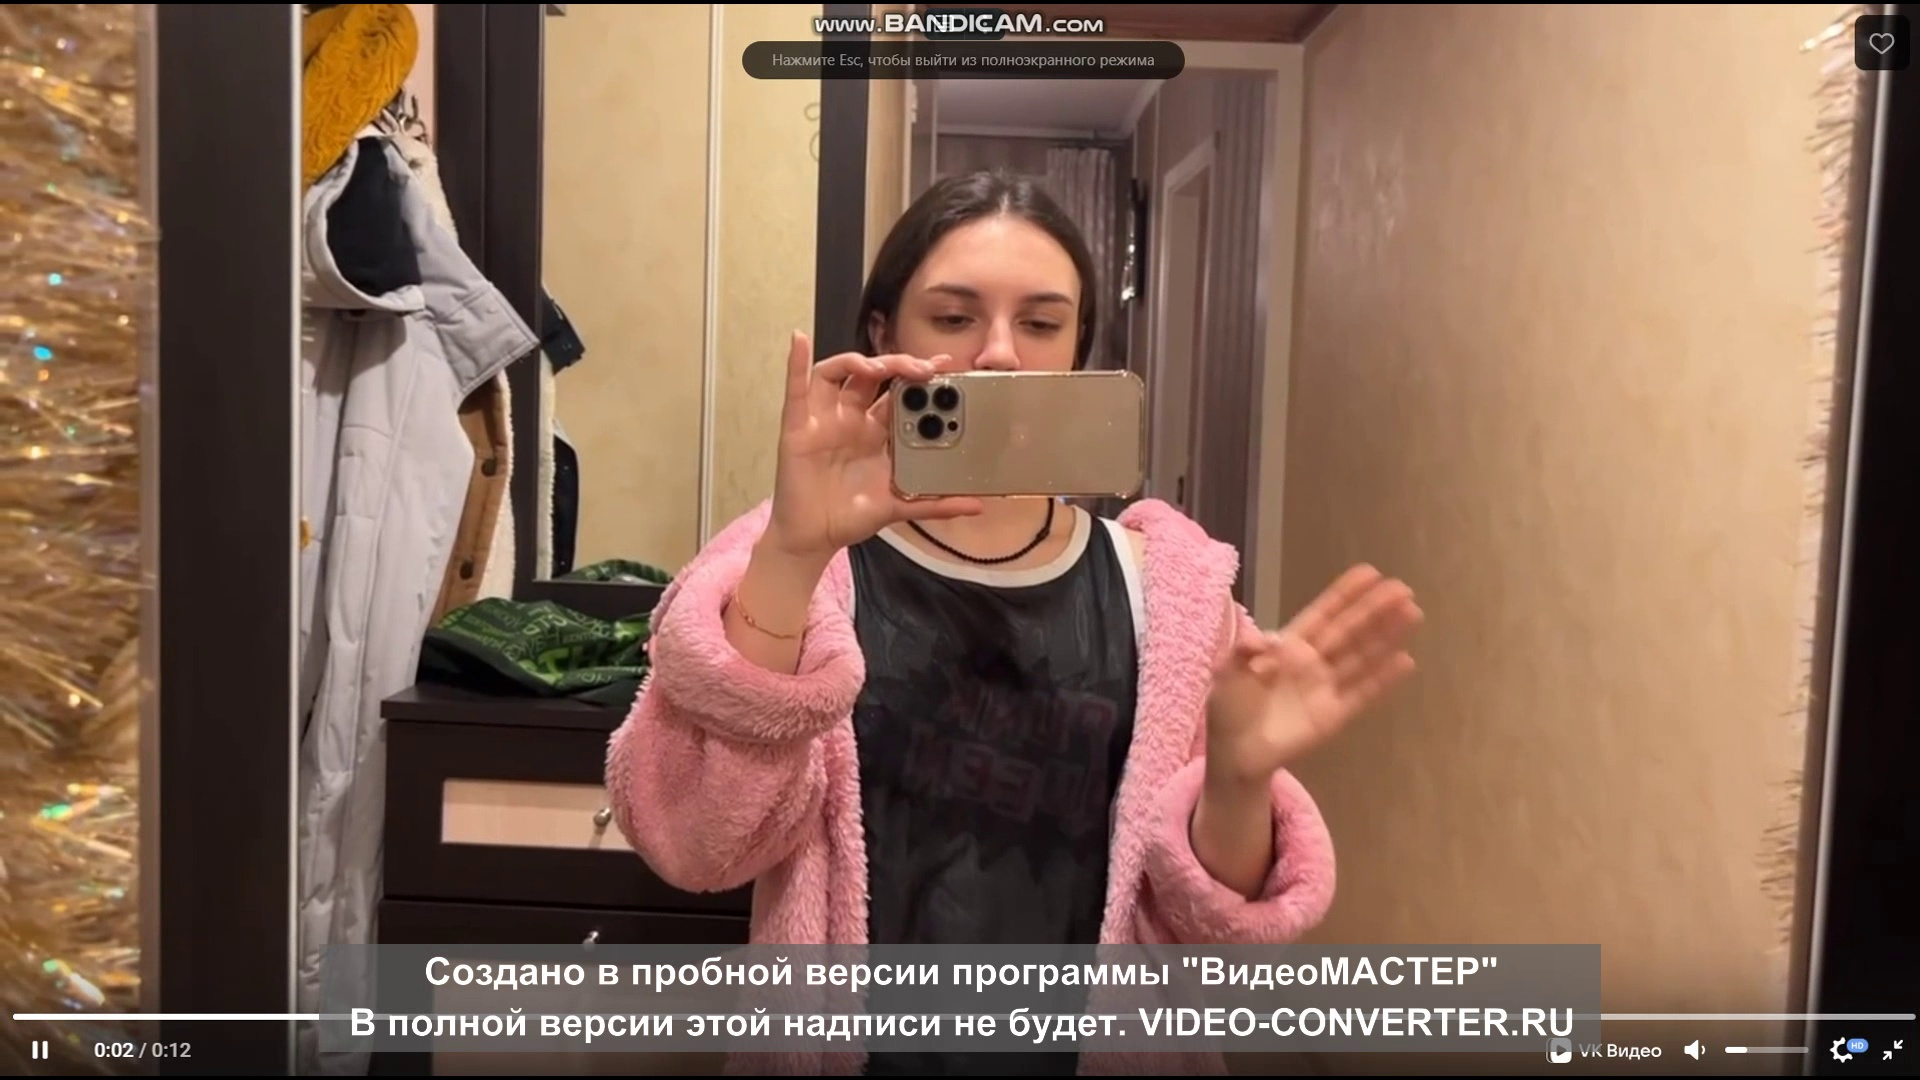Ладонь: (1201, 556, 1432, 779)
